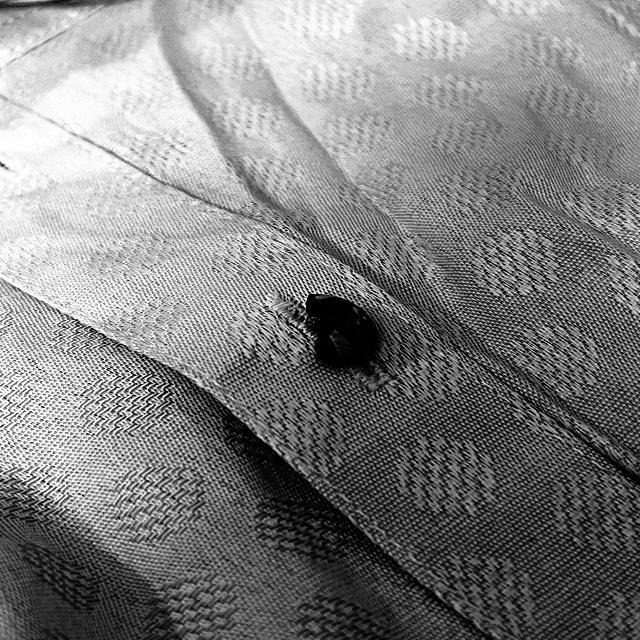Broken_button: (284, 284, 390, 381)
